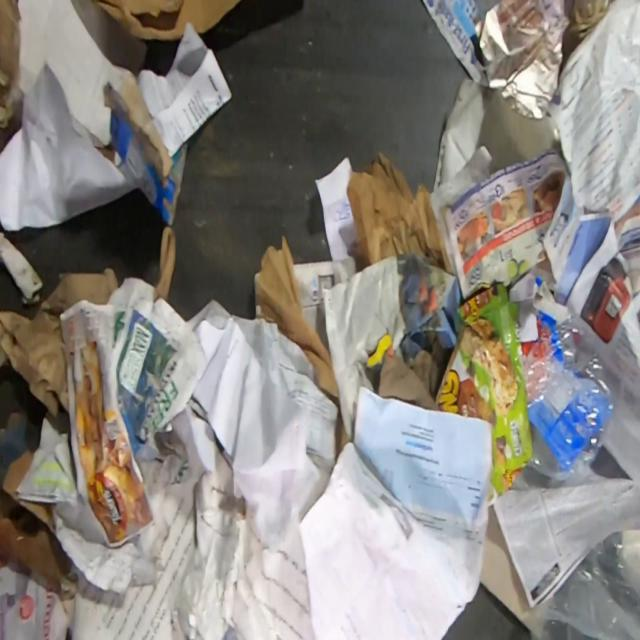cardboard: (434, 283, 534, 498), (94, 74, 188, 226)
soft_plastic: (524, 314, 619, 482), (530, 530, 640, 639)
